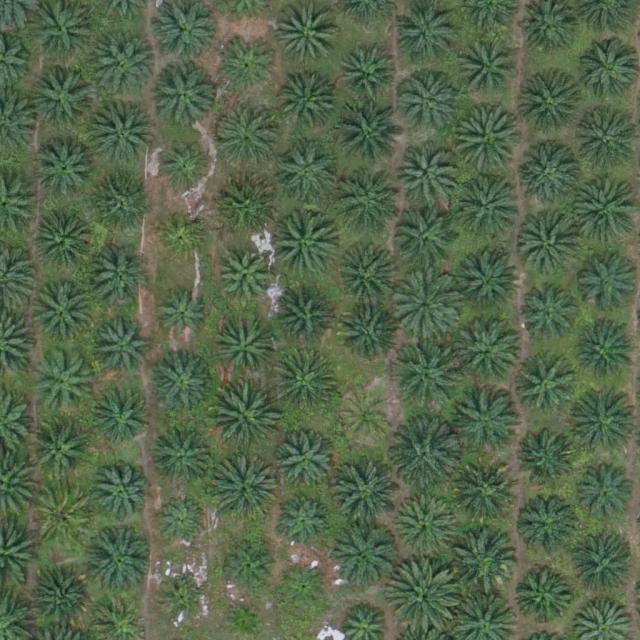Healthy: (265, 208, 336, 278), (452, 107, 523, 177), (389, 558, 459, 629), (570, 386, 640, 457), (390, 420, 460, 491), (390, 342, 460, 413), (271, 347, 341, 418), (209, 384, 280, 454), (29, 64, 99, 134), (91, 28, 161, 98), (88, 100, 158, 170), (216, 100, 286, 170), (334, 100, 404, 170), (391, 270, 461, 340), (454, 172, 524, 242), (448, 525, 518, 595), (209, 454, 279, 524), (84, 525, 154, 595), (332, 462, 402, 532), (329, 520, 399, 590), (274, 141, 337, 204), (339, 179, 402, 242), (457, 246, 520, 309), (520, 141, 583, 204), (510, 566, 573, 629), (574, 321, 637, 384), (457, 320, 520, 383), (452, 464, 515, 527), (395, 496, 458, 559), (29, 417, 92, 480), (36, 210, 98, 273), (36, 137, 98, 200), (89, 177, 151, 240), (92, 245, 154, 308), (153, 64, 215, 127), (223, 174, 285, 237), (275, 9, 337, 72), (269, 284, 331, 347), (333, 241, 395, 304), (398, 71, 460, 134), (396, 143, 458, 206), (458, 38, 520, 101), (517, 73, 579, 136), (520, 219, 582, 282), (578, 251, 640, 314), (573, 539, 635, 602), (513, 352, 575, 415), (457, 394, 520, 456), (274, 430, 336, 493), (214, 317, 276, 380), (150, 354, 212, 417), (151, 425, 213, 488), (90, 462, 152, 525), (31, 348, 93, 411), (34, 281, 96, 343), (278, 70, 340, 132), (392, 210, 454, 272), (30, 569, 92, 631), (573, 462, 635, 524), (518, 490, 580, 552), (516, 425, 578, 487), (334, 302, 396, 364), (33, 485, 95, 547), (277, 494, 332, 550), (153, 289, 208, 344), (157, 207, 212, 262), (157, 136, 212, 191), (216, 249, 271, 304), (276, 559, 331, 614), (220, 541, 275, 596), (154, 496, 209, 551), (94, 391, 149, 446), (93, 323, 148, 378), (222, 39, 276, 94), (340, 44, 394, 99), (522, 287, 576, 342)
Small: (162, 580, 209, 627)
Yellow: (339, 391, 394, 446)
